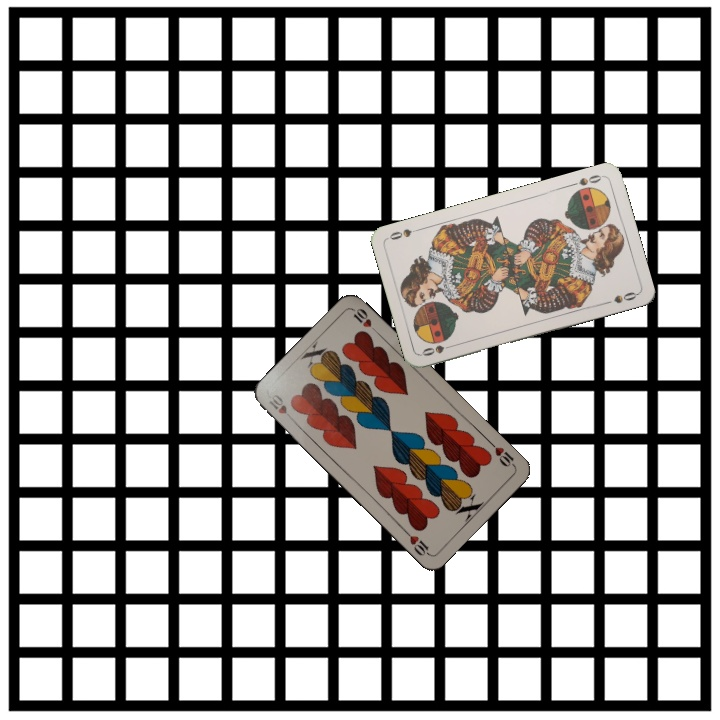H10: (265, 390, 297, 424), (485, 437, 517, 469)
SO: (418, 340, 458, 359), (566, 171, 606, 189)
